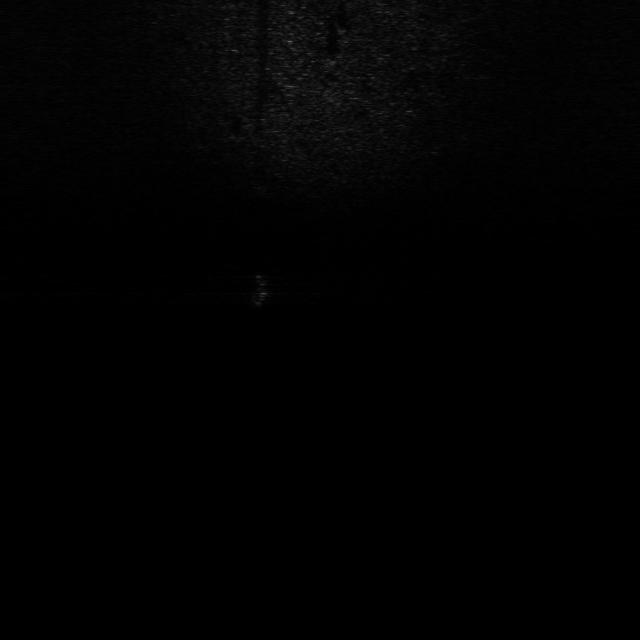human body: (240, 268, 284, 314)
